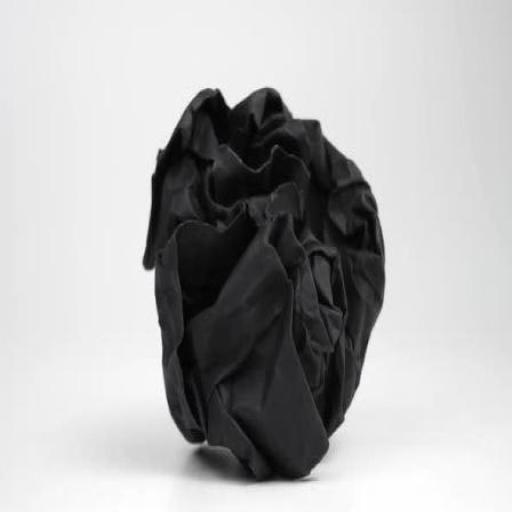paper: (128, 63, 426, 490)
